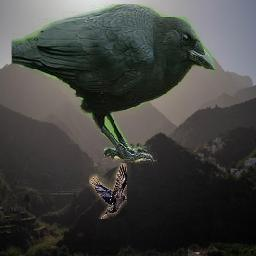Crow: (12, 4, 217, 164), (89, 163, 127, 219)
